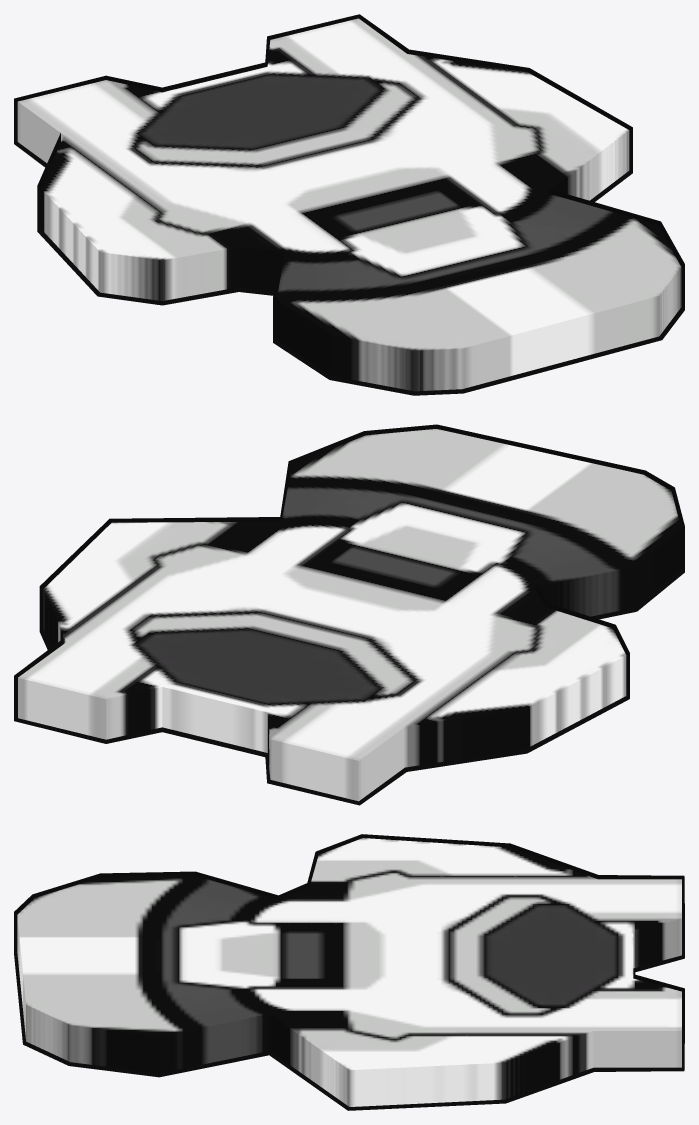
File: Item_Apparel_ArmorCataphract_Things_Pawn_Humanlike_Apparel_CataphractArmor_CataphractArmor_Female.glb
3 renders of one model, top to bottom at view 1: azimuth 30°, elevation 25°; view 2: azimuth 150°, elevation 25°; view 3: azimuth 270°, elevation 25°, orthographic. The views are drawn at different scales.
Parts seen in each view (by area): view 1: Body, Outline; view 2: Body, Outline; view 3: Body, Outline.
Part boxes in pixels (x1=…): Body: x1=17, y1=18, x2=681, y2=391; Outline: x1=14, y1=14, x2=684, y2=395; Body: x1=18, y1=429, x2=681, y2=801; Outline: x1=14, y1=424, x2=684, y2=805; Body: x1=17, y1=838, x2=681, y2=1106; Outline: x1=14, y1=834, x2=684, y2=1110.
Bounding box in the file's own units: 0.9802 × 0.0857 × 1.18.
Materials: 2 (1 with a texture image).
